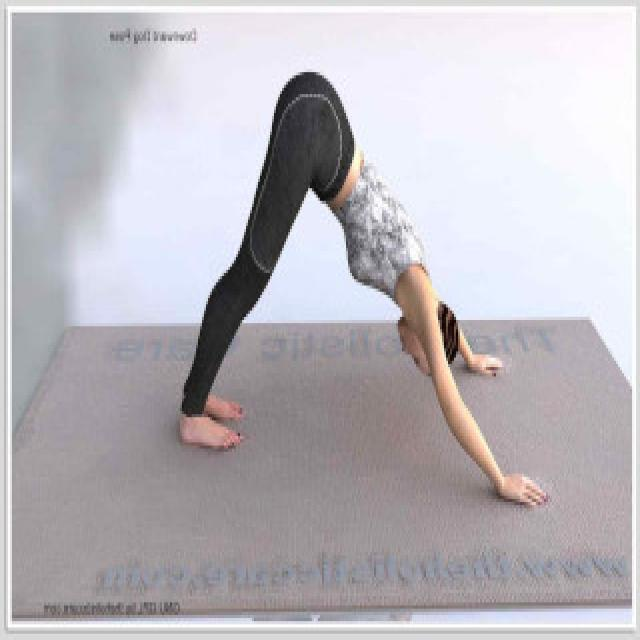yoga-pose downward: (156, 72, 534, 502)
